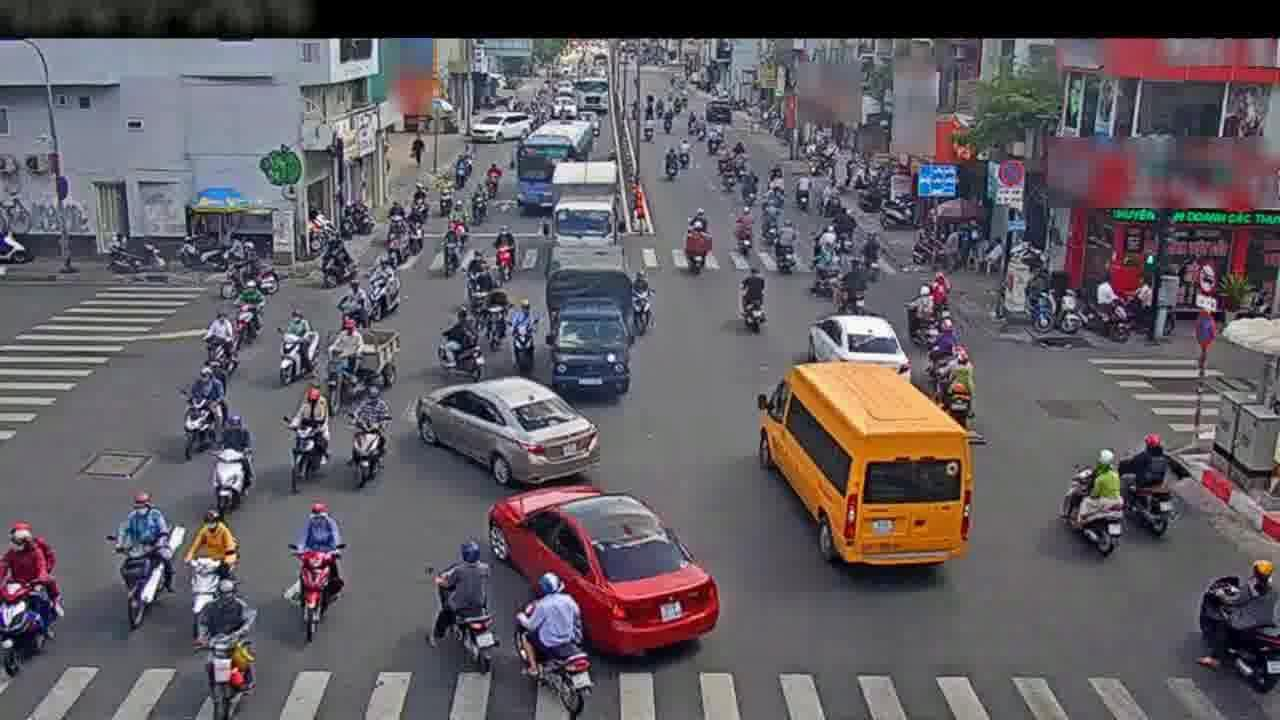14: (757, 359, 981, 570)
8: (543, 253, 641, 394), (547, 150, 617, 238)
container: (491, 485, 728, 660), (430, 374, 596, 494), (805, 317, 909, 377), (471, 106, 516, 142)
motorbike: (1195, 560, 1280, 693), (515, 580, 593, 706), (428, 535, 498, 669), (111, 495, 174, 630), (3, 519, 59, 670), (289, 504, 343, 642), (1057, 449, 1127, 555), (203, 596, 260, 710), (186, 516, 239, 632), (1126, 432, 1177, 540), (930, 338, 976, 427), (180, 366, 224, 459), (212, 414, 252, 516), (346, 394, 387, 493), (287, 393, 326, 492), (215, 246, 277, 306), (438, 306, 484, 380), (277, 308, 314, 387), (203, 306, 238, 386), (315, 231, 356, 294), (834, 250, 869, 320), (855, 220, 891, 288), (507, 294, 537, 375), (737, 263, 768, 341), (234, 277, 265, 351), (806, 240, 840, 307), (626, 268, 656, 342), (367, 254, 399, 319), (485, 281, 513, 352), (925, 270, 952, 332), (492, 225, 519, 284), (681, 221, 710, 275), (441, 213, 464, 278), (907, 290, 933, 347), (466, 249, 491, 308), (341, 282, 365, 343), (733, 206, 753, 265), (776, 220, 797, 271), (385, 199, 410, 239), (661, 144, 685, 183), (436, 172, 454, 216), (409, 210, 426, 256), (473, 182, 488, 227)
